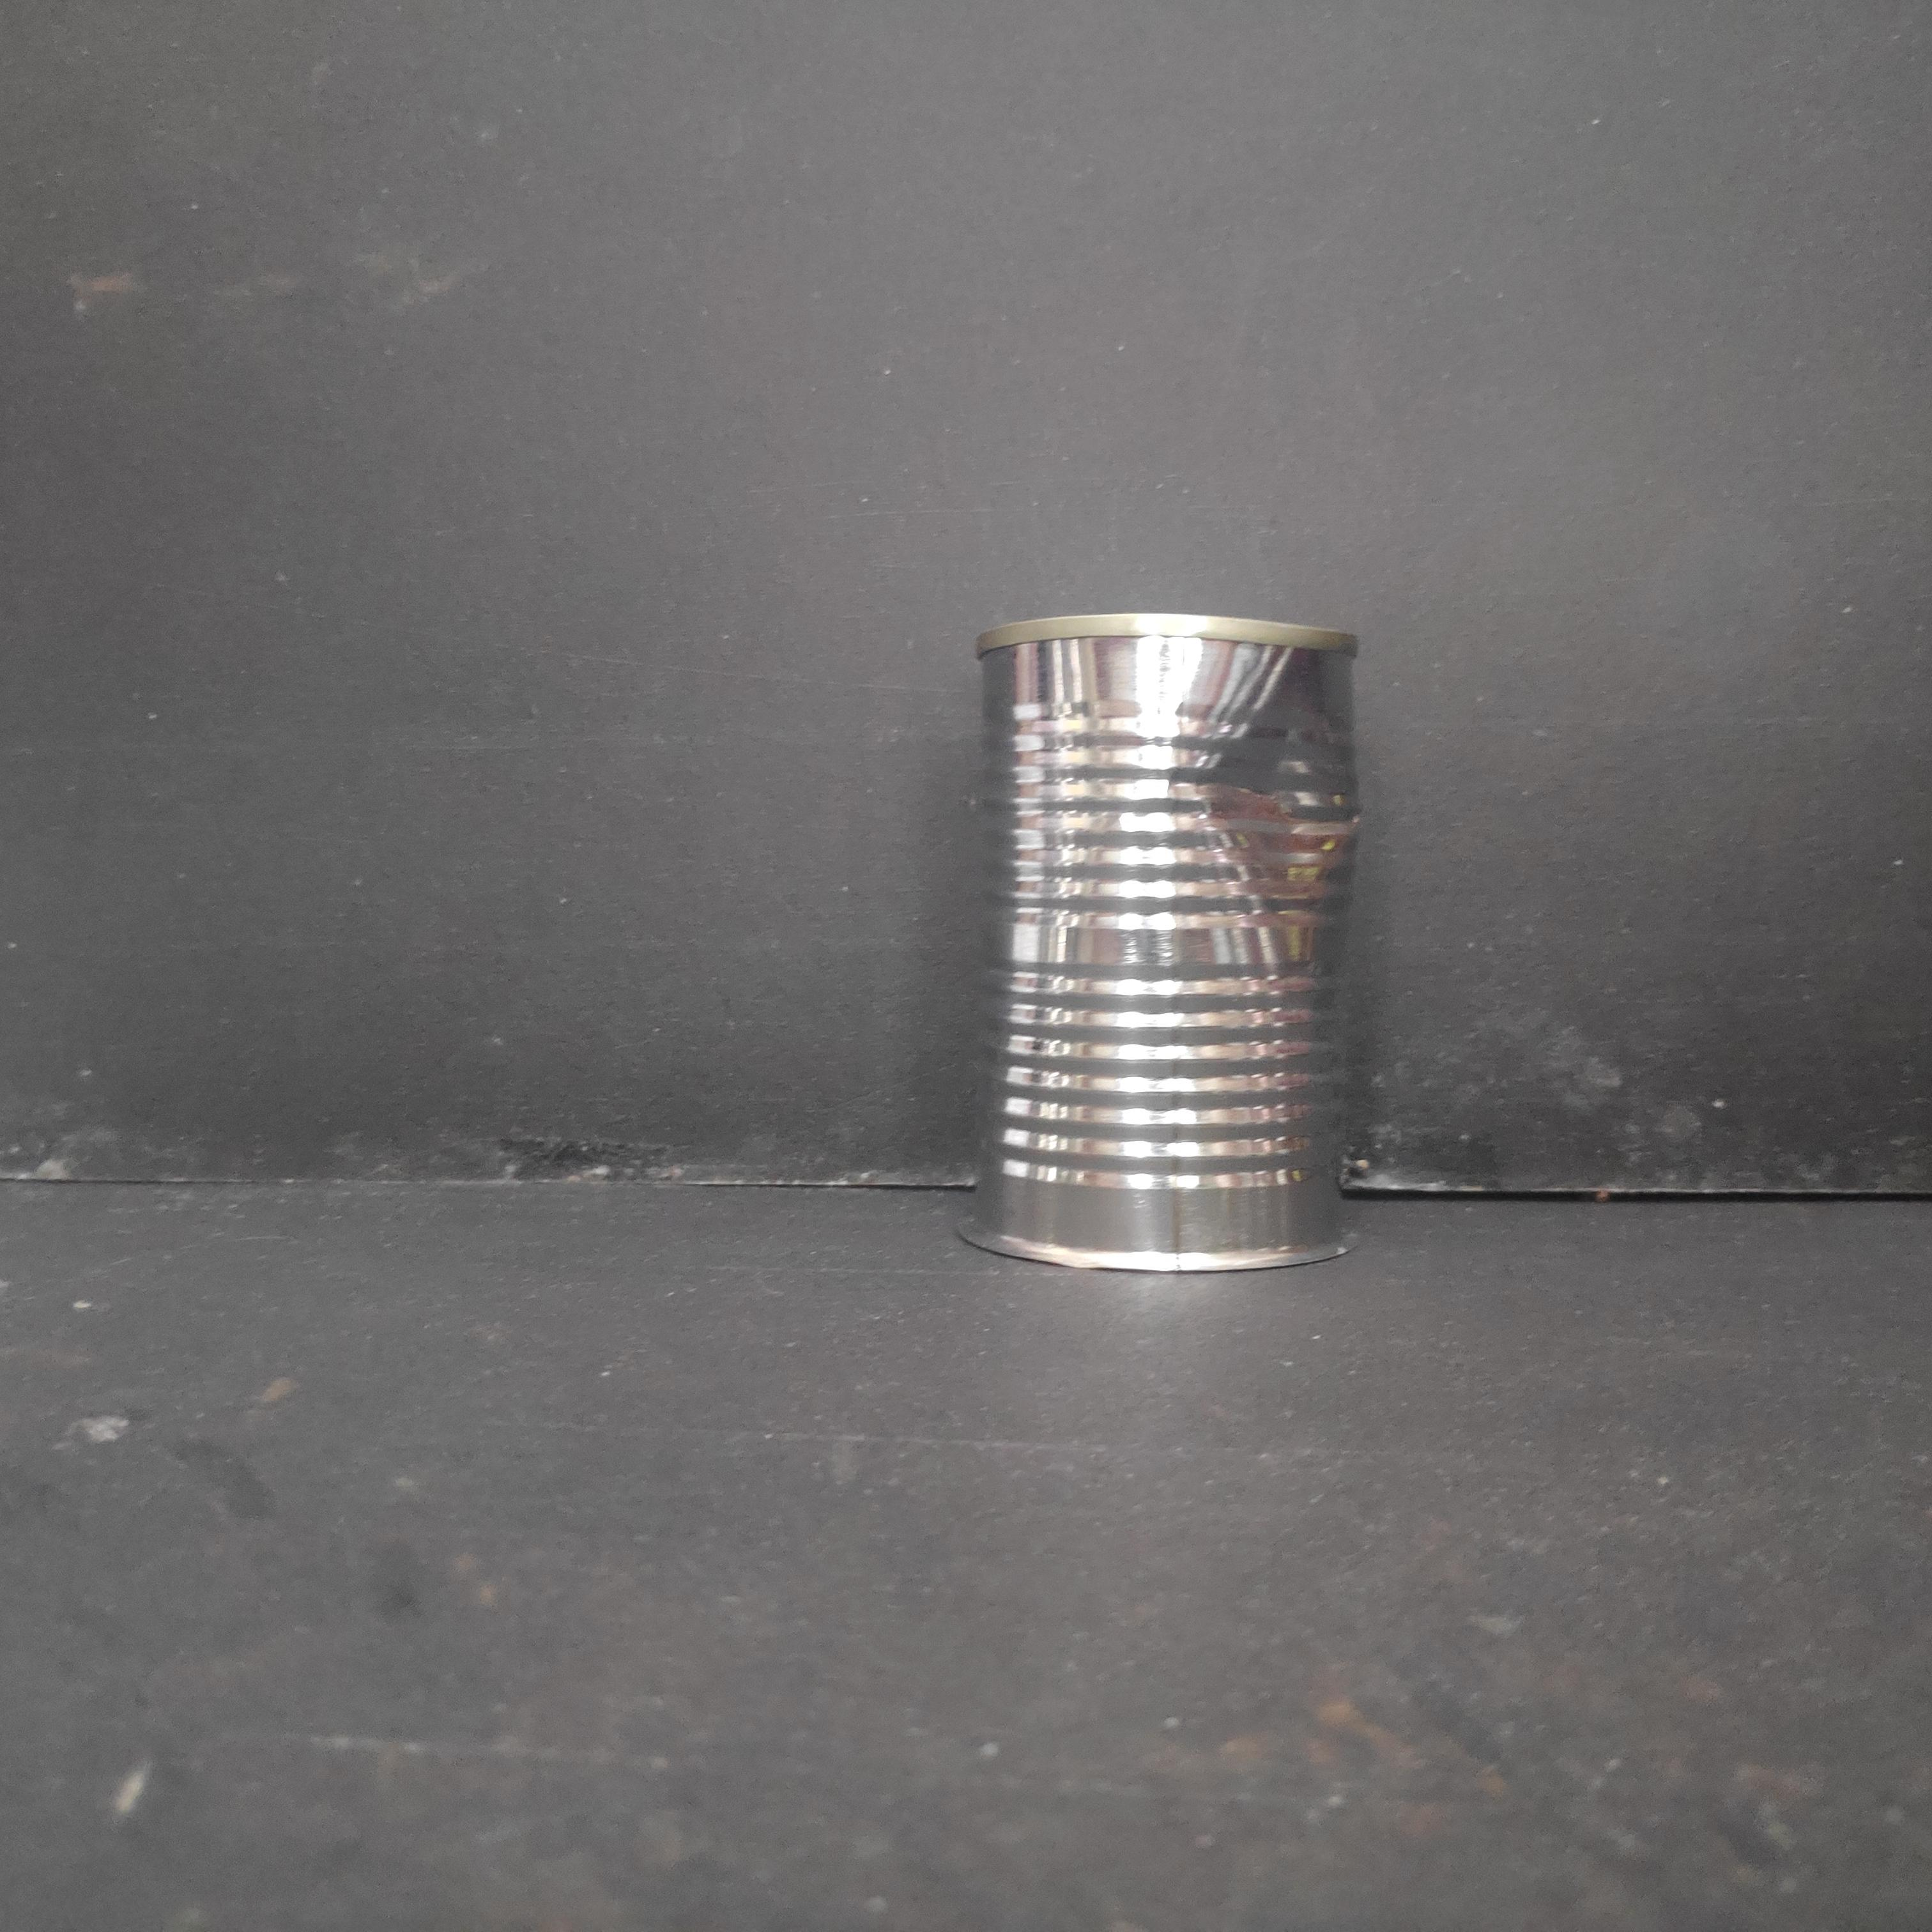Minor Defect: (960, 604, 1376, 1280)
